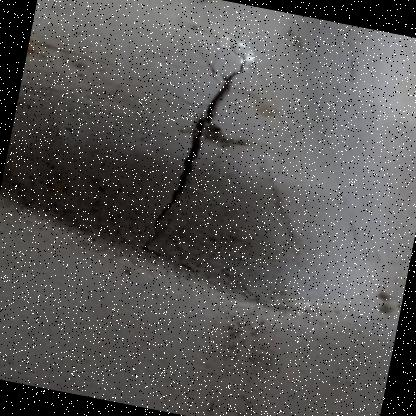Crack: (96, 0, 319, 306)
